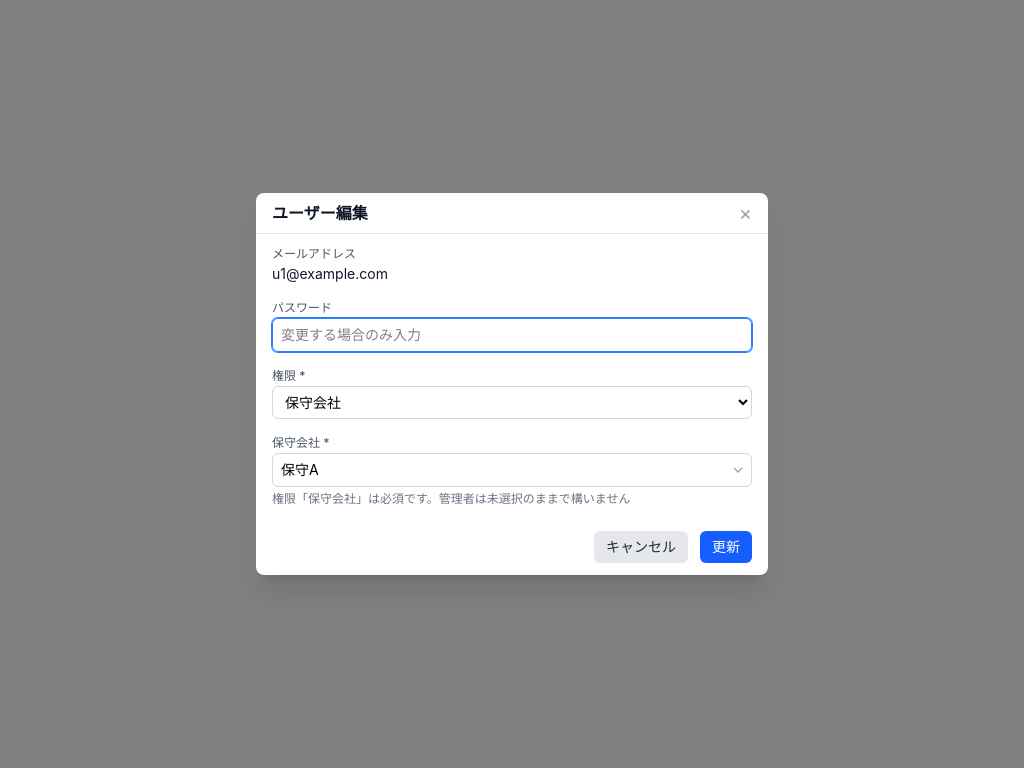
Test: ユーザー編集で保守会社→管理会社へ付け替える › 管理会社を選ぶと保守会社の欄が管理会社の欄に替わり、付け替えの注意が出る
Expected: the dropdown with id "editUserVendor" is shown, left=272, top=453, right=752, bottom=487
Select "管理会社" in the dropdown with id "editUserRole" at (512, 402), box left=272, top=386, right=752, bottom=419
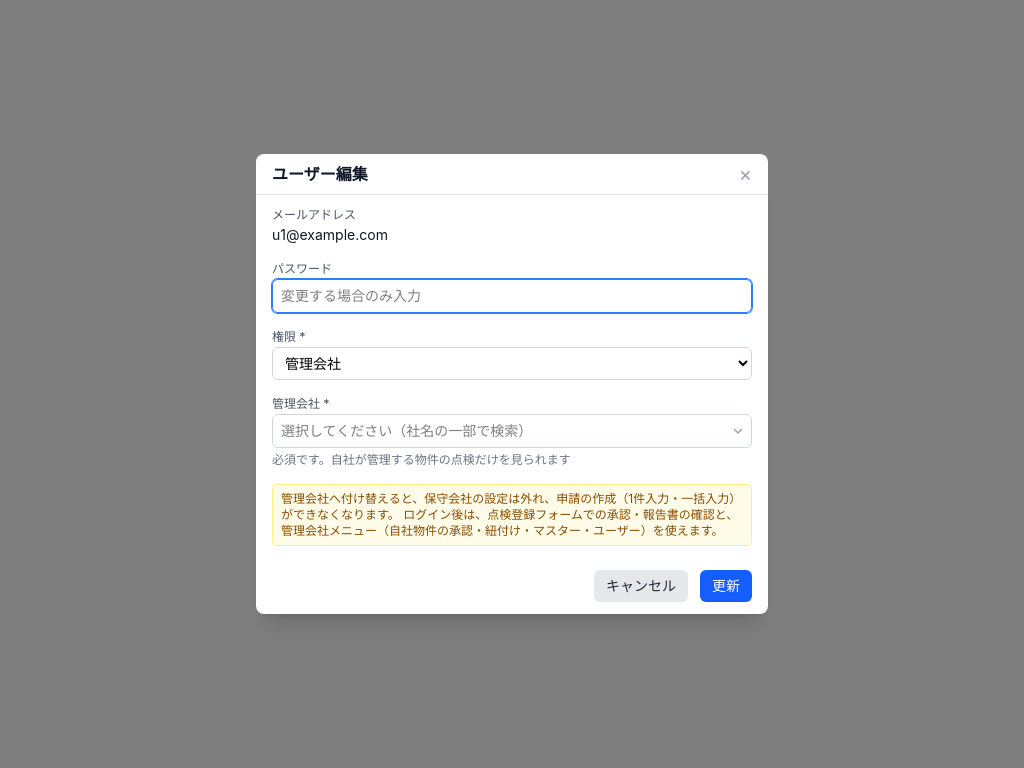
Expected: the dropdown with id "editUserVendor" is shown, left=272, top=414, right=752, bottom=448
Result: the text "申請の作成" is shown at left=281, top=491, right=741, bottom=538
Result: the text "管理会社メニュー" is shown at left=281, top=491, right=741, bottom=538
